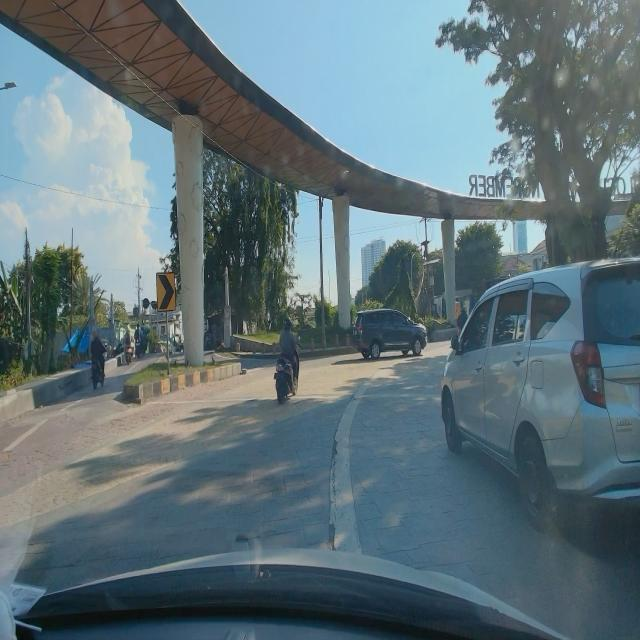car: (438, 253, 640, 534)
